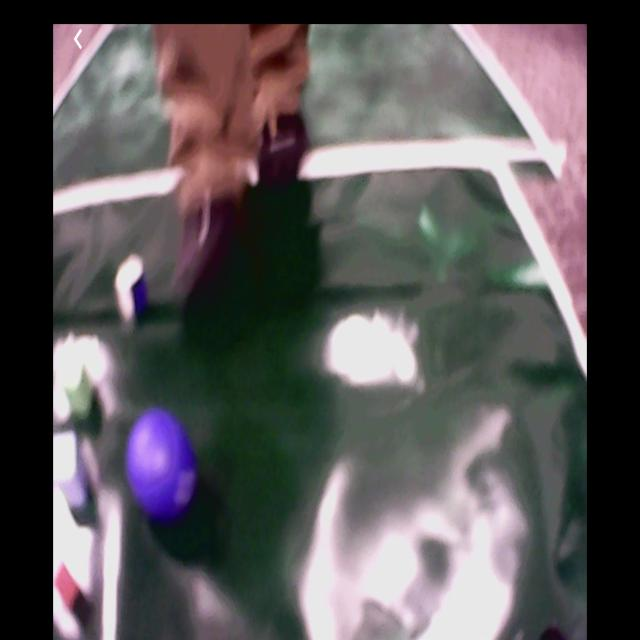ball: (128, 412, 195, 516)
